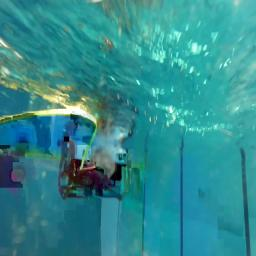back: (57, 138, 132, 201)
